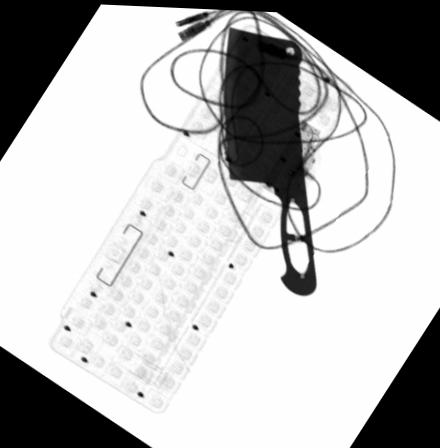Knife: (222, 23, 317, 293)
